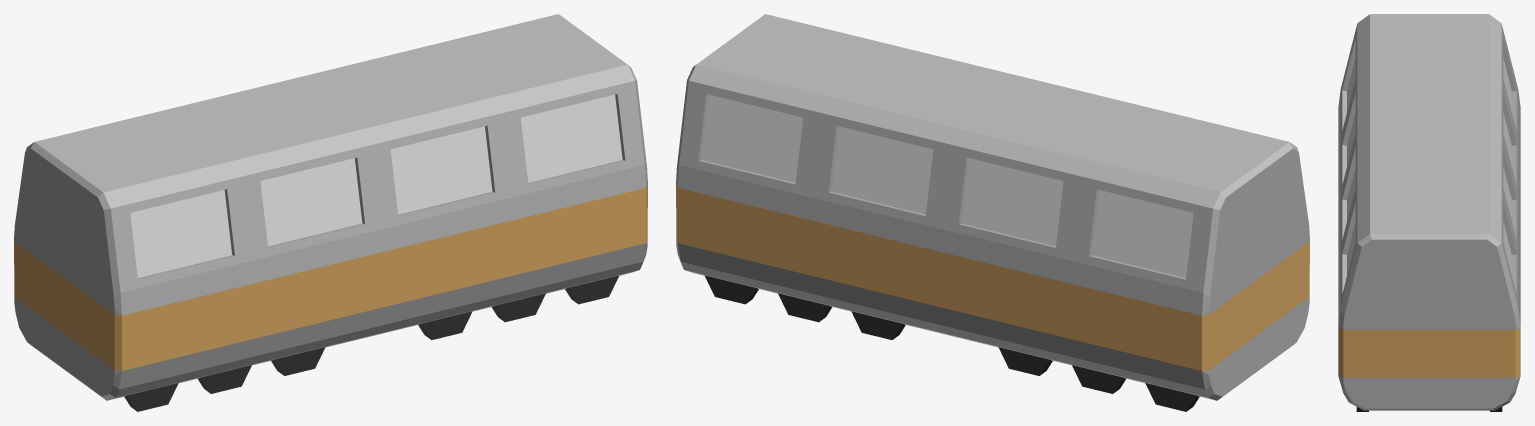
The model's file is Carriage_Electric.fbx.
The picture shows the model from 3 angles, left to right: view 1: azimuth 30°, elevation 25°; view 2: azimuth 150°, elevation 25°; view 3: azimuth 270°, elevation 25°; orthographic projection. The views are drawn at different scales.
Visible parts, largest first — view 1: Carriage, Wheels.002; view 2: Carriage, Wheels.002; view 3: Carriage.
Boxes of the visible parts, x1,y1,x2,y2 form: Carriage: (14,14,647,400); Wheels.002: (124,275,619,411); Carriage: (676,14,1309,400); Wheels.002: (704,275,1199,411); Carriage: (1338,14,1520,410).
Bounding box in the file's own units: 290 × 114 × 100.
